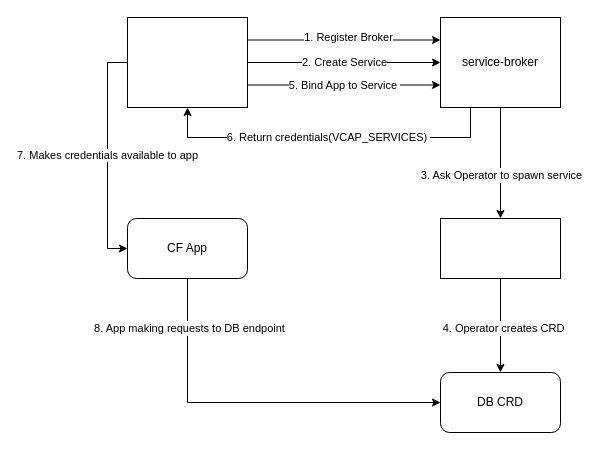
Image size: 599x450. Some labels were removed from this diagram. Each missing label, with the box of its shape:
CF Client: (126, 16, 248, 108)
KubeDB operator: (440, 218, 560, 278)
